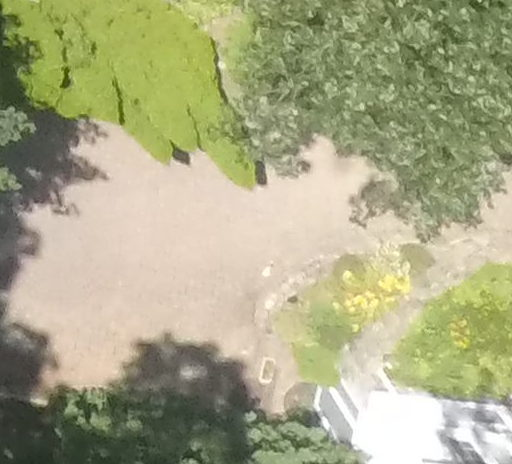flower bed: (260, 352, 275, 385)
